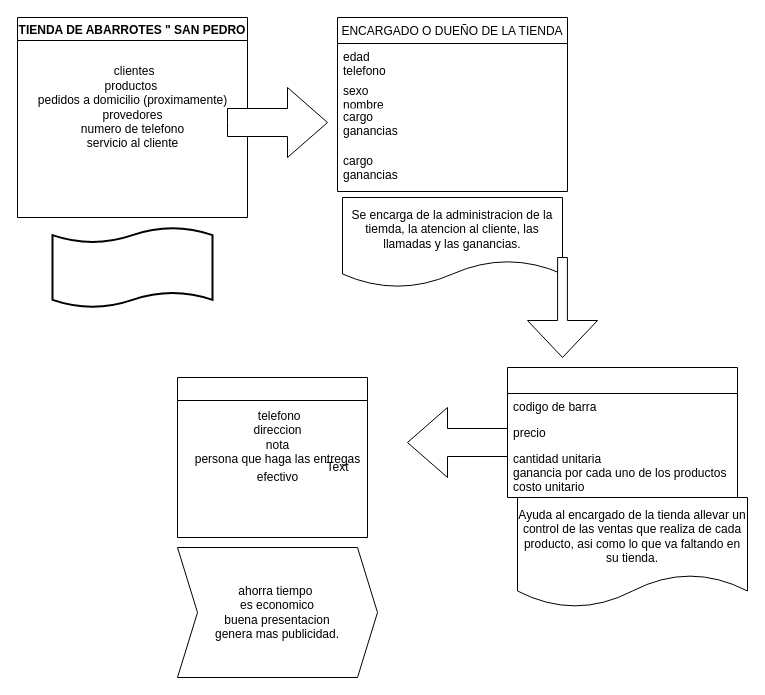
The diagram is 765 pixels wide and 695 high, and some of its shapes have lost their labels. Each missing label, with the box of its shape:
BASE DE DATOS DE LOS PRODUCTOS: (506, 366, 738, 498)
podemos realizar compras de productos que ocupamos: (51, 226, 213, 308)
SERVICIO A DOMICILIO: (176, 376, 368, 538)
